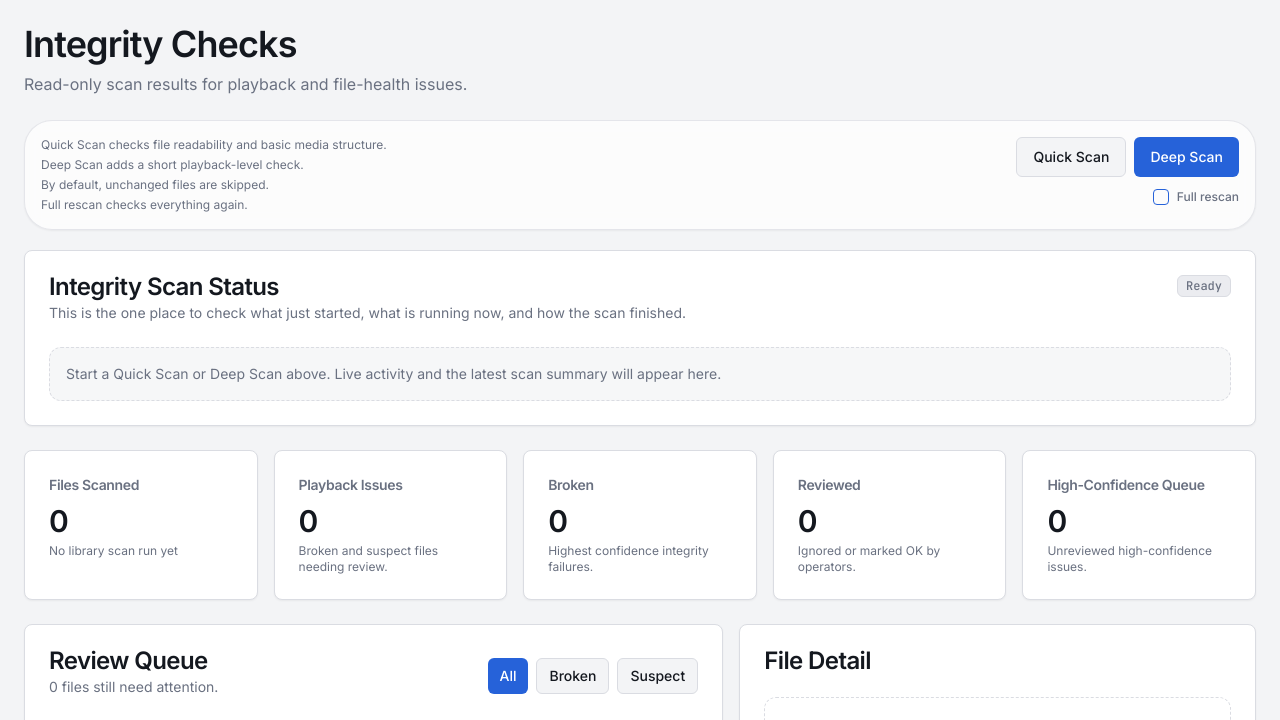
Test: IntegrityPage › deep scan shows in-flight state and then success summary
Later steps or results of the test are not shown.
Step 1. Click the button "Deep Scan" → (1187, 157), box x1=1134 y1=137 x2=1239 y2=177
(page scrolled)
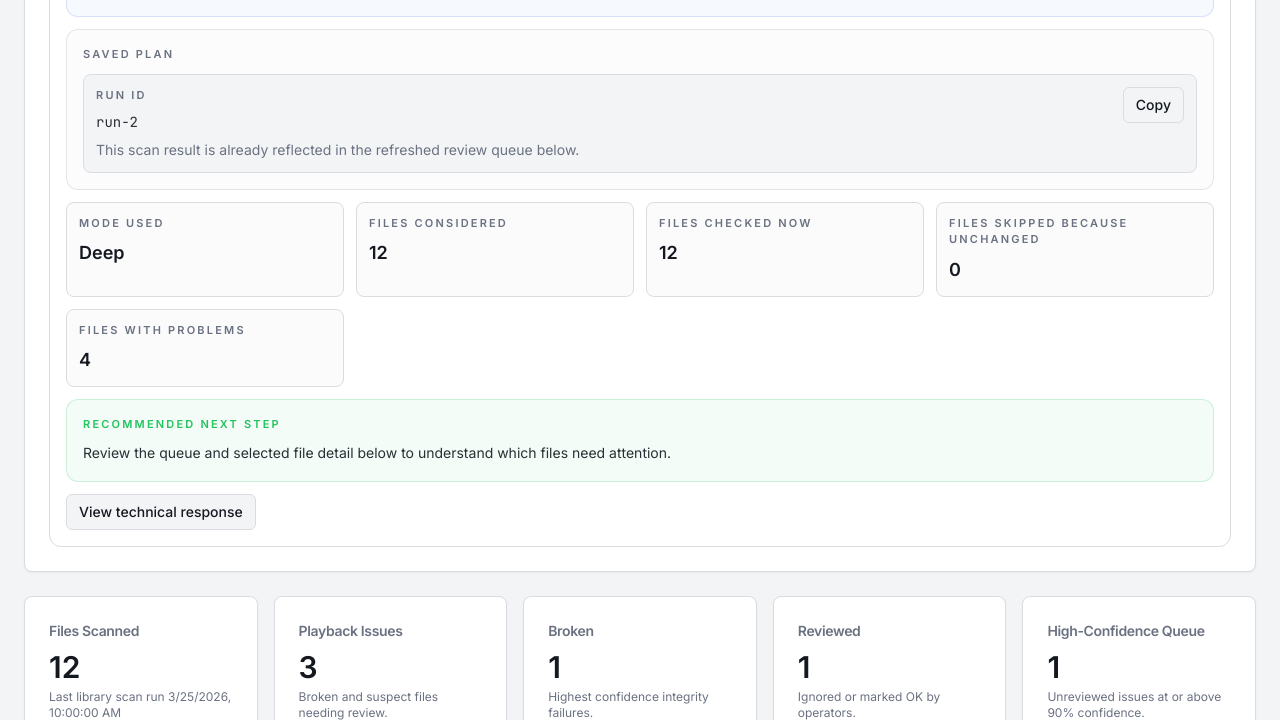
Expected: the text "Files considered" is shown, x1=369 y1=216 x2=508 y2=230
Expected: the text "Files checked now" is shown, x1=659 y1=216 x2=813 y2=230
Expected: the text "Files skipped because unchanged" is shown, x1=949 y1=216 x2=1128 y2=246
